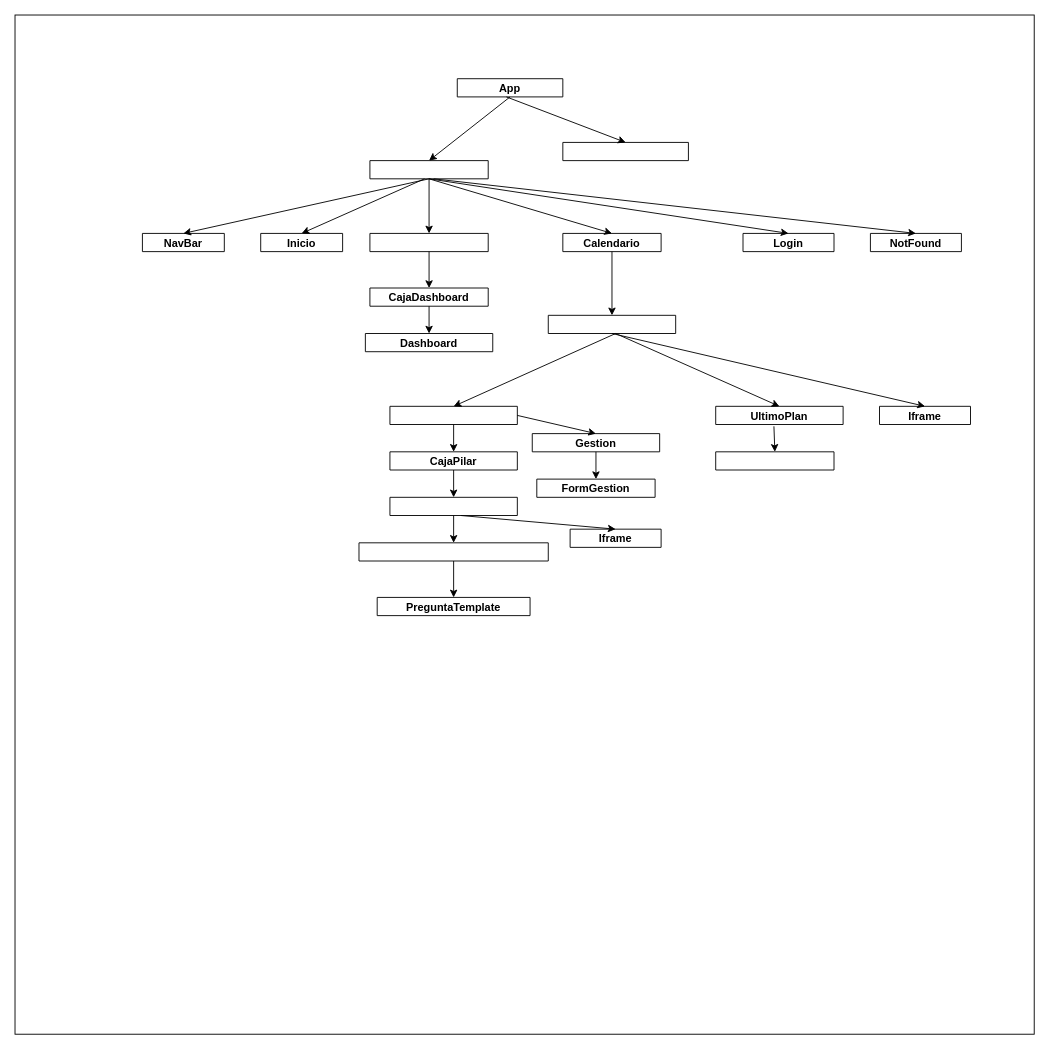
The diagram is 1049 pixels wide and 1049 high, and some of its shapes have lost their labels. Here are the shapes that lost their labels. From the top down, the centre of each, then its label:
At [428,169]: "Router".
At [625,151]: "Intro".
At [428,242]: "PanelDashboards".
At [611,324]: "ProximaRuta".
At [453,415]: "Pilares".
At [774,460]: "FormUltimoPlan".
At [453,506]: "PilarTemplate".
At [453,551]: "FormPreguntasTemplate".
